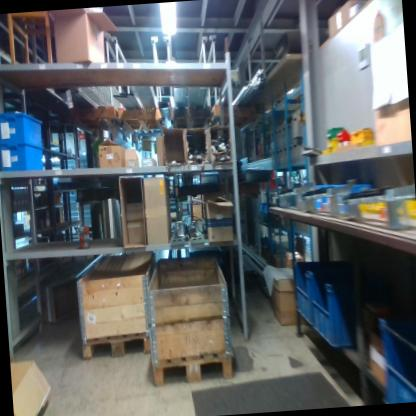pallet: (151, 348, 235, 389), (80, 329, 152, 361)
small_load_carrier: (291, 257, 366, 329), (308, 271, 363, 358), (379, 318, 416, 402), (0, 106, 41, 147), (0, 138, 45, 175)
